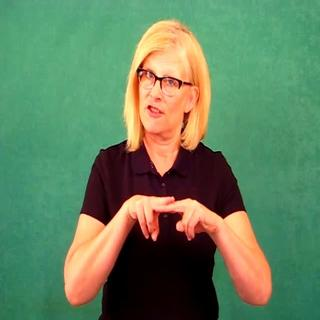chair: (126, 191, 217, 246)
